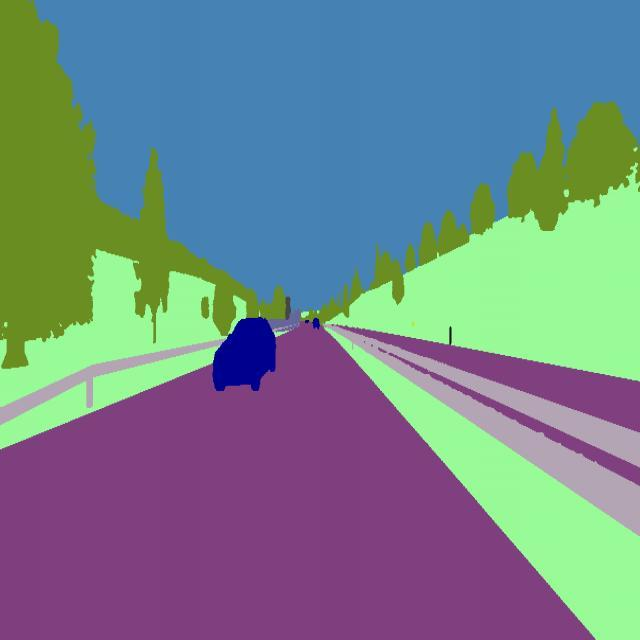safe: (208, 312, 278, 396), (308, 313, 322, 332)
